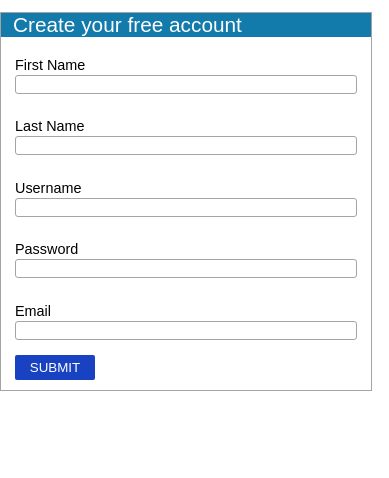
Test case: <AccountForm /> › empty fields display appropriate message on submit
Click the button with id "account-form-submit" at (55, 367), box [15, 354, 95, 380]
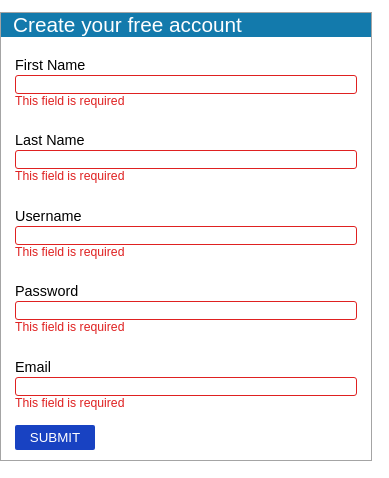
Now the text "This field is required" below "First Name" is shown, box [15, 94, 124, 108]
Now the text "This field is required" below "Last Name" is shown, box [15, 169, 124, 183]
Now the text "This field is required" below "Username" is shown, box [15, 245, 124, 259]
